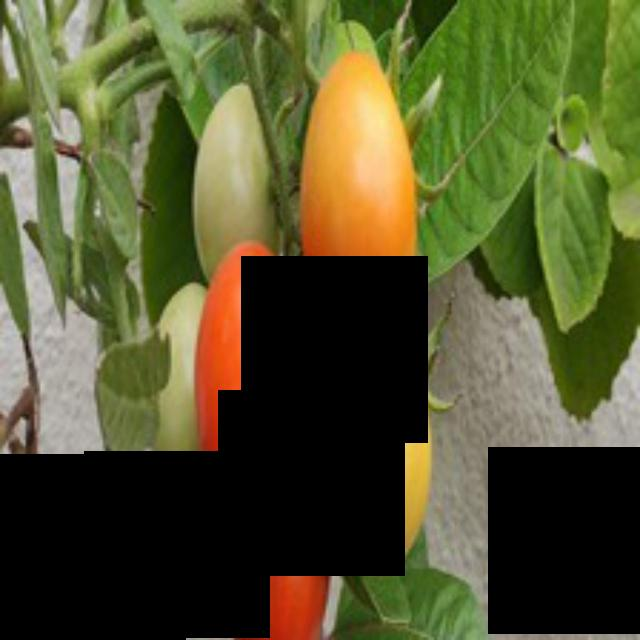tomato: (200, 248, 336, 525), (220, 471, 345, 637)
